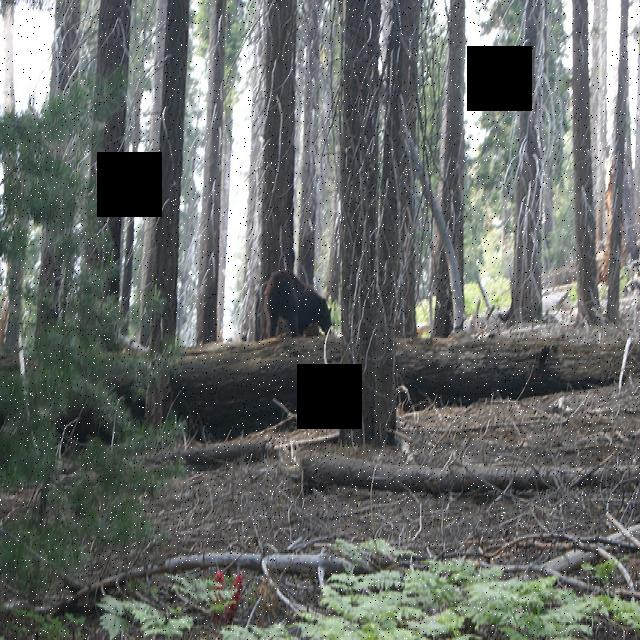Bear: (256, 264, 338, 342)
